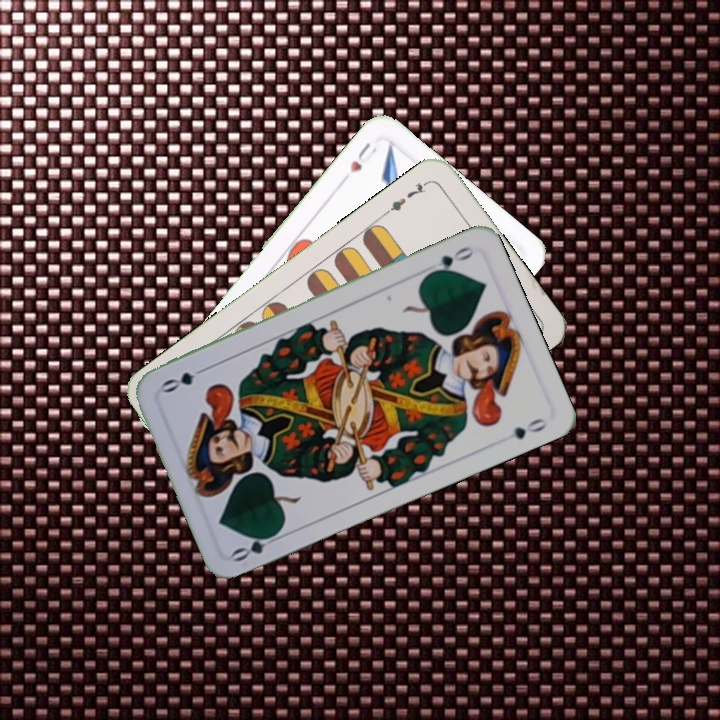E7: (381, 177, 432, 217)
GO: (228, 526, 285, 565), (423, 242, 476, 279)
HU: (345, 138, 380, 176)
